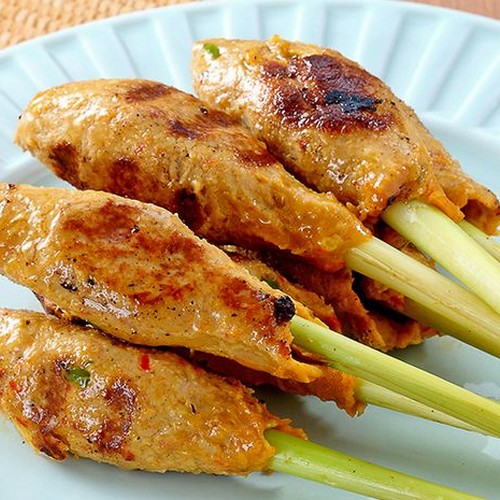sate lilit: (9, 65, 500, 495)
